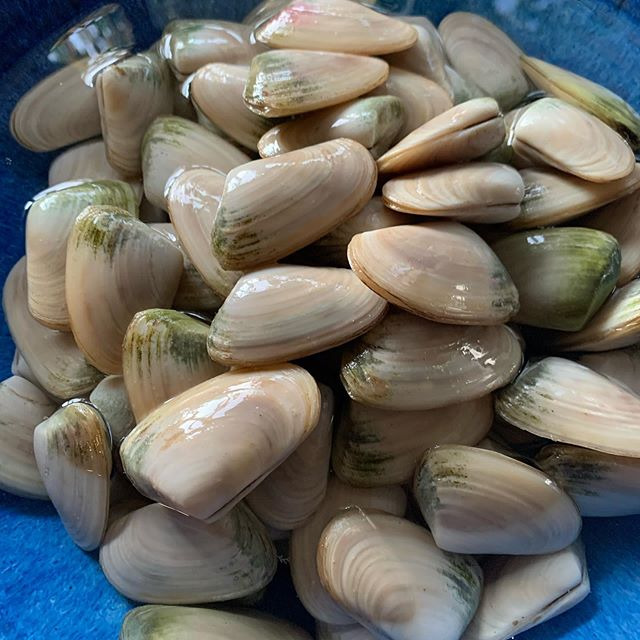tuatua: (111, 360, 327, 525), (207, 135, 378, 270), (316, 508, 485, 640), (63, 203, 181, 380), (410, 442, 588, 559), (330, 308, 528, 409), (203, 265, 391, 368), (98, 499, 280, 605), (345, 220, 520, 329), (495, 225, 628, 340), (493, 352, 640, 456), (29, 395, 116, 549), (120, 301, 223, 423), (474, 538, 596, 640), (91, 46, 177, 180), (243, 48, 393, 120), (510, 95, 633, 181), (375, 97, 513, 170), (434, 10, 533, 106), (250, 3, 418, 57), (384, 165, 524, 222), (188, 60, 258, 147)
